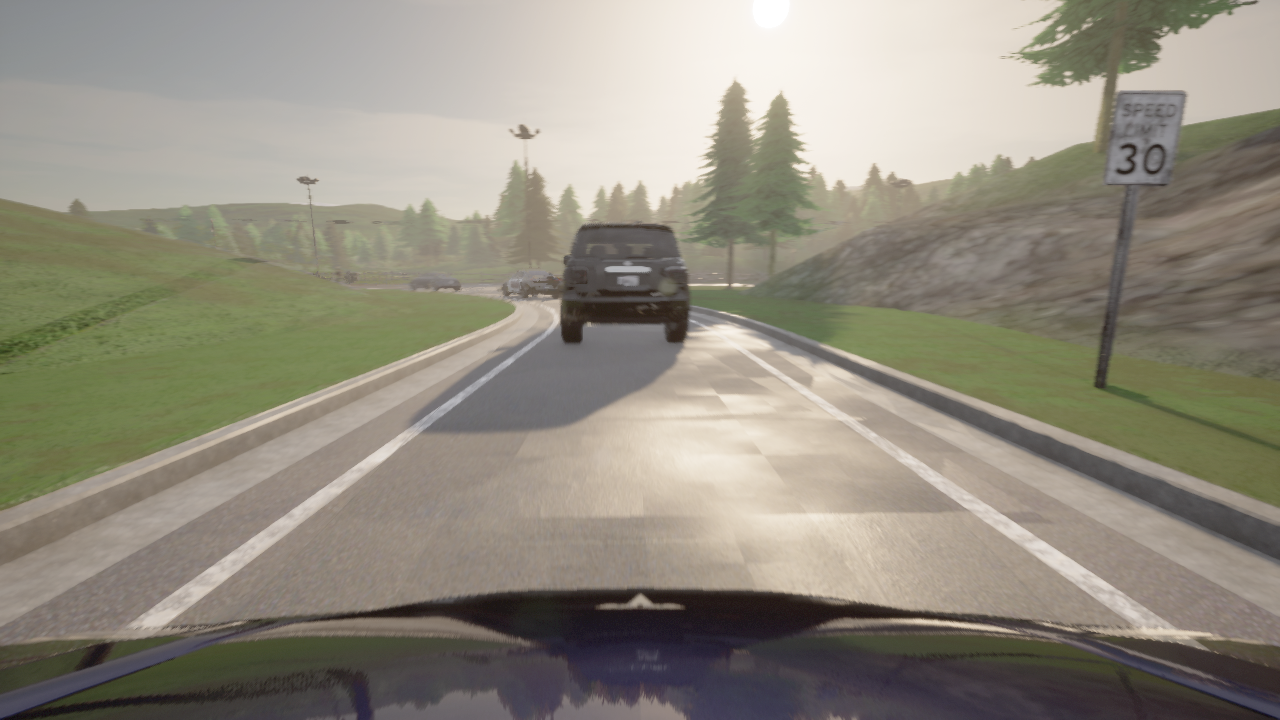cyclist: (0, 588, 1279, 719), (561, 222, 689, 342), (501, 267, 561, 298), (408, 272, 461, 291), (330, 276, 345, 285)
